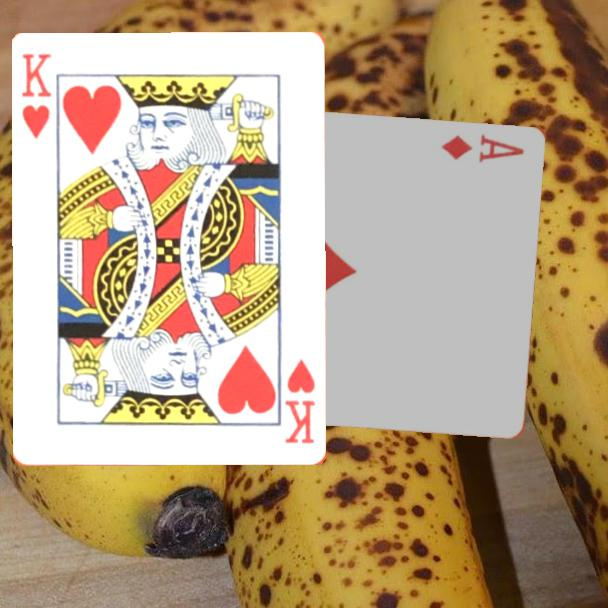d01: (438, 131, 528, 165)
h13: (18, 50, 55, 142), (281, 356, 318, 447)
